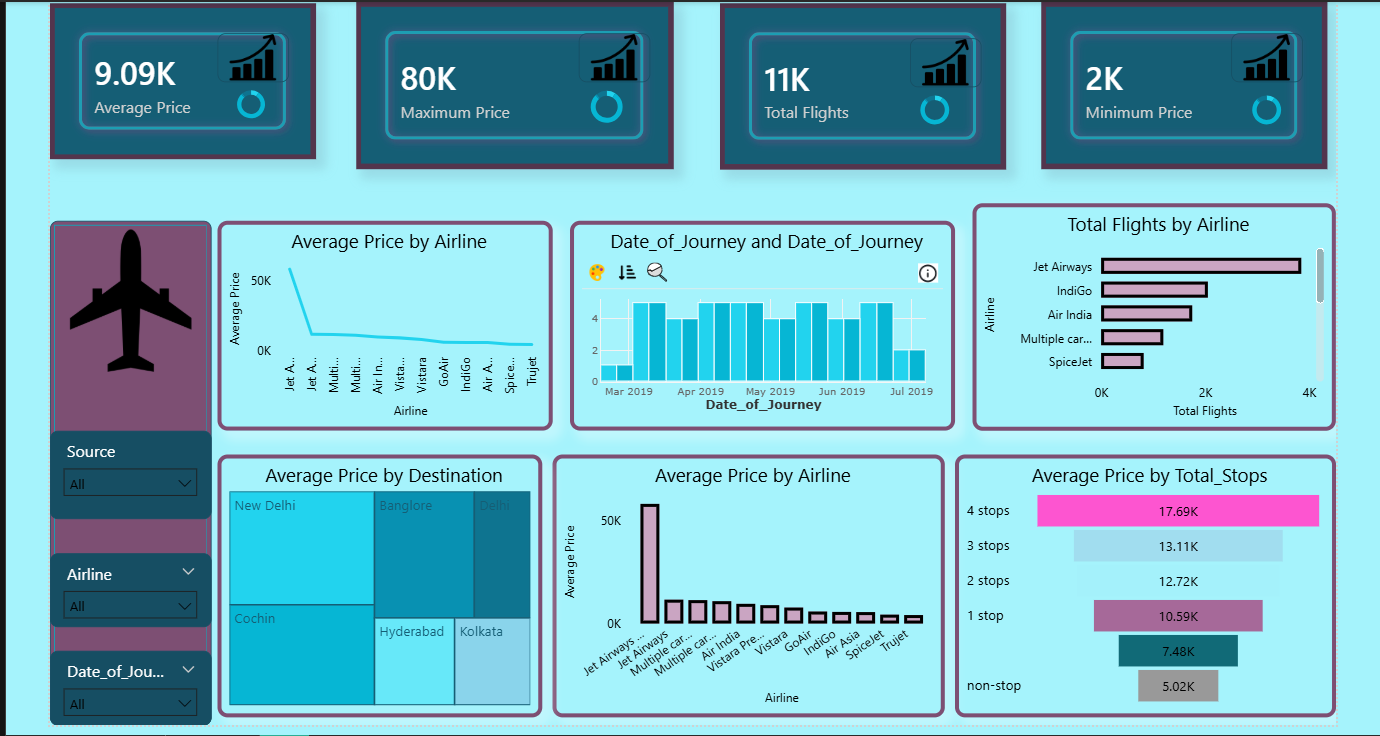

Layout of this report page (visuals, bound fields, positions):
{"tool":"powerbi","page":{"name":"Page 1","canvas":[1280,720],"ordinal":0},"visuals":[{"type":"shape","box":[0,217.7,160.5,502.6],"z":0},{"type":"columnChart","fields":{"Category":["IndianFlightdata - Sheet1.Airline"],"Y":["IndianFlightdata - Sheet1.Average Price"]},"box":[500.1,450.3,390.6,261.2],"z":1000},{"type":"clusteredBarChart","fields":{"Category":["IndianFlightdata - Sheet1.Airline"],"Y":["IndianFlightdata - Sheet1.Total Flights"]},"box":[918,200.3,362,226.4],"z":2000},{"type":"cardVisual","fields":{"Data":["IndianFlightdata - Sheet1.Total Flights"]},"box":[666.8,1.2,284.9,165.4],"z":3000},{"type":"cardVisual","fields":{"Data":["IndianFlightdata - Sheet1.Minimum Price"]},"box":[986.5,0,284.9,166.7],"z":4000},{"type":"cardVisual","fields":{"Data":["IndianFlightdata - Sheet1.Average Price"]},"box":[0,1.2,265,155.5],"z":5000},{"type":"cardVisual","fields":{"Data":["IndianFlightdata - Sheet1.Maximum Price"]},"box":[304.8,0,316,166.7],"z":6000},{"type":"areaChart","fields":{"Category":["IndianFlightdata - Sheet1.Date_of_Journey"],"Y":["CountNonNull(IndianFlightdata - Sheet1.Date_of_Journey)"]},"box":[517.5,217.7,383.1,209],"z":7000},{"type":"funnel","fields":{"Category":["IndianFlightdata - Sheet1.Total_Stops"],"Y":["IndianFlightdata - Sheet1.Average Price"]},"box":[900.6,450.3,379.4,261.2],"z":8000},{"type":"treemap","fields":{"Group":["IndianFlightdata - Sheet1.Destination"],"Values":["IndianFlightdata - Sheet1.Average Price"]},"box":[166.7,450.3,323.4,261.2],"z":9000},{"type":"image","box":[166.7,31.1,70.9,48.5],"z":10000},{"type":"image","box":[526.2,31.1,70.9,48.5],"z":11000},{"type":"image","box":[855.8,36.4,70.9,48.5],"z":12000},{"type":"image","box":[1175.5,31.1,70.9,48.5],"z":13000},{"type":"slicer","fields":{"Values":["IndianFlightdata - Sheet1.Date_of_Journey"]},"box":[0,645.6,160.5,74.6],"z":14000},{"type":"slicer","fields":{"Values":["IndianFlightdata - Sheet1.Airline"]},"box":[0,548.6,160.5,73.4],"z":15000},{"type":"slicer","fields":{"Values":["IndianFlightdata - Sheet1.Source"]},"box":[0,426.7,160.5,88.3],"z":16000},{"type":"donutChart","fields":{"Y":["IndianFlightdata - Sheet1.Average Price","IndianFlightdata - Sheet1.Maximum Price","IndianFlightdata - Sheet1.Minimum Price","IndianFlightdata - Sheet1.Total Flights"]},"box":[163,79.6,74.6,44.8],"z":17000},{"type":"donutChart","fields":{"Y":["IndianFlightdata - Sheet1.Average Price","IndianFlightdata - Sheet1.Maximum Price","IndianFlightdata - Sheet1.Minimum Price","IndianFlightdata - Sheet1.Total Flights"]},"box":[517.5,79.6,73.4,49.8],"z":18000},{"type":"donutChart","fields":{"Y":["IndianFlightdata - Sheet1.Average Price","IndianFlightdata - Sheet1.Maximum Price","IndianFlightdata - Sheet1.Minimum Price","IndianFlightdata - Sheet1.Total Flights"]},"box":[843.4,84.6,74.6,46],"z":19000},{"type":"donutChart","fields":{"Y":["IndianFlightdata - Sheet1.Average Price","IndianFlightdata - Sheet1.Maximum Price","IndianFlightdata - Sheet1.Minimum Price","IndianFlightdata - Sheet1.Total Flights"]},"box":[1180.5,84.6,61,46],"z":20000},{"type":"lineChart","fields":{"Category":["IndianFlightdata - Sheet1.Airline"],"Y":["IndianFlightdata - Sheet1.Average Price"]},"box":[166.7,217.7,333.4,209],"z":21000},{"type":"image","box":[0,226.4,160.5,141.8],"z":22001}]}

Visuals, with their boxes in screenshot pixels (x1, y1, x2, y2):
shape: box(43, 216, 205, 723)
columnChart - IndianFlightdata - Sheet1.Airline x IndianFlightdata - Sheet1.Average Price: box(548, 451, 942, 714)
clusteredBarChart - IndianFlightdata - Sheet1.Airline x IndianFlightdata - Sheet1.Total Flights: box(969, 199, 1335, 427)
cardVisual - IndianFlightdata - Sheet1.Total Flights: box(716, 0, 1003, 165)
cardVisual - IndianFlightdata - Sheet1.Minimum Price: box(1039, 0, 1326, 165)
cardVisual - IndianFlightdata - Sheet1.Average Price: box(43, 0, 311, 155)
cardVisual - IndianFlightdata - Sheet1.Maximum Price: box(351, 0, 670, 165)
areaChart - IndianFlightdata - Sheet1.Date_of_Journey x CountNonNull(IndianFlightdata - Sheet1.Date_of_Journey): box(565, 216, 952, 427)
funnel - IndianFlightdata - Sheet1.Total_Stops x IndianFlightdata - Sheet1.Average Price: box(952, 451, 1335, 714)
treemap - IndianFlightdata - Sheet1.Destination x IndianFlightdata - Sheet1.Average Price: box(211, 451, 538, 714)
image: box(211, 28, 283, 77)
image: box(574, 28, 646, 77)
image: box(907, 33, 978, 82)
image: box(1229, 28, 1301, 77)
slicer - IndianFlightdata - Sheet1.Date_of_Journey: box(43, 648, 205, 723)
slicer - IndianFlightdata - Sheet1.Airline: box(43, 550, 205, 624)
slicer - IndianFlightdata - Sheet1.Source: box(43, 427, 205, 516)
donutChart - IndianFlightdata - Sheet1.Average Price x IndianFlightdata - Sheet1.Maximum Price: box(208, 77, 283, 122)
donutChart - IndianFlightdata - Sheet1.Average Price x IndianFlightdata - Sheet1.Maximum Price: box(565, 77, 639, 127)
donutChart - IndianFlightdata - Sheet1.Average Price x IndianFlightdata - Sheet1.Maximum Price: box(894, 82, 969, 128)
donutChart - IndianFlightdata - Sheet1.Average Price x IndianFlightdata - Sheet1.Maximum Price: box(1234, 82, 1296, 128)
lineChart - IndianFlightdata - Sheet1.Airline x IndianFlightdata - Sheet1.Average Price: box(211, 216, 548, 427)
image: box(43, 225, 205, 368)
